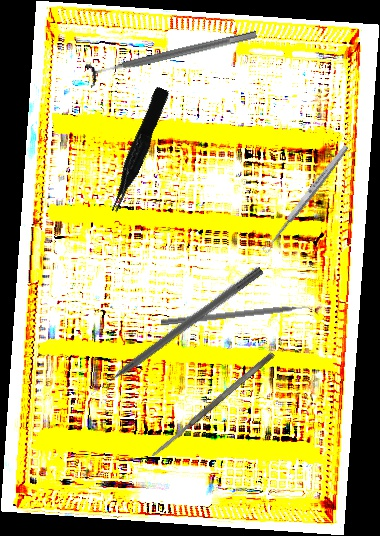Chopper: (160, 302, 320, 335)
Fixation Ring: (85, 21, 260, 90)
Pusher: (86, 264, 265, 398)
Spatula Surgical: (149, 350, 276, 460)
Surgical Spoon: (260, 143, 351, 255)
Tissue Forceps: (101, 85, 175, 215)
